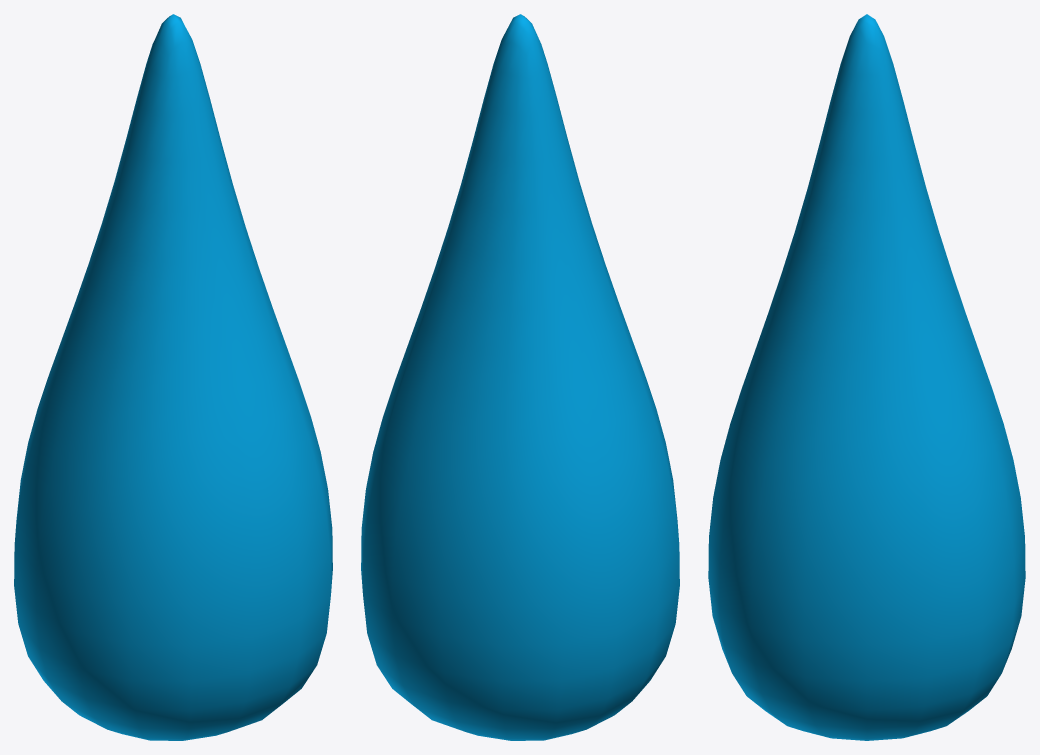
The model's file is water_ani.gltf.
The picture shows the model from 3 angles, left to right: view 1: azimuth 30°, elevation 25°; view 2: azimuth 150°, elevation 25°; view 3: azimuth 270°, elevation 25°; orthographic projection.
Parts seen in each view (by area): view 1: Cube; view 2: Cube; view 3: Cube.
Part boxes in pixels (x1,y1,x2,y2): Cube: (14, 14, 332, 740); Cube: (361, 14, 679, 740); Cube: (708, 14, 1025, 740).
Size of the model in its own units: 1.8 by 4.41 by 1.8.
